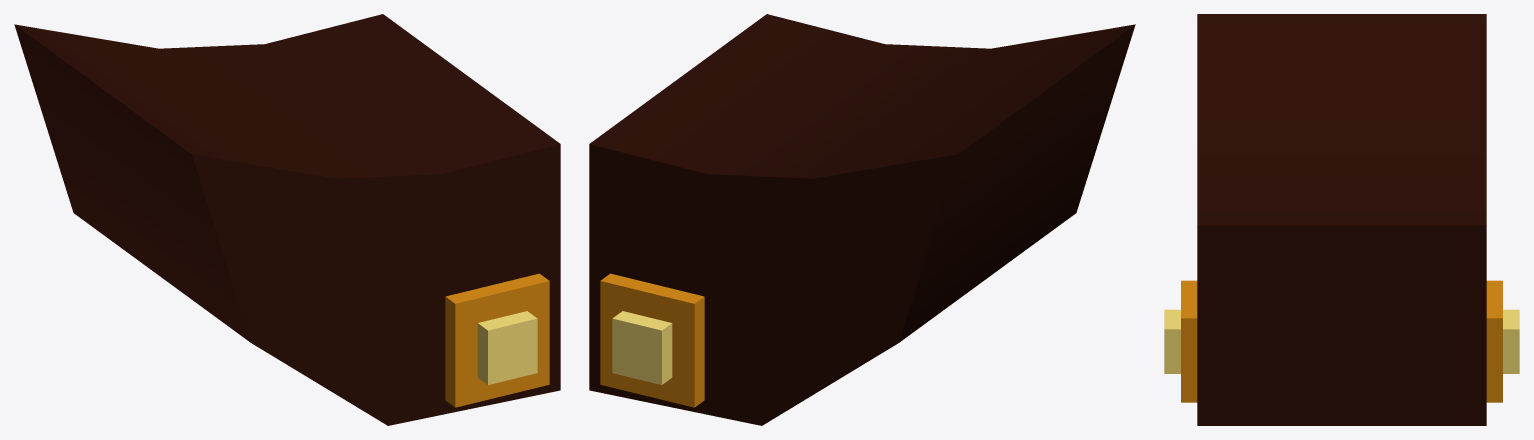
The model's file is Shoulder 11.FBX.
The picture shows the model from 3 angles, left to right: view 1: azimuth 30°, elevation 25°; view 2: azimuth 150°, elevation 25°; view 3: azimuth 270°, elevation 25°; orthographic projection. The views are drawn at different scales.
Visible parts, largest first — view 1: Shoulder 11; view 2: Shoulder 11; view 3: Shoulder 11.
Part boxes in pixels (x1,y1,x2,y2): Shoulder 11: [14, 14, 560, 425]; Shoulder 11: [589, 14, 1135, 425]; Shoulder 11: [1164, 14, 1519, 425].
Size of the model in its own units: 24.4 by 20.61 by 25.01.
1 material, 1 textured.
